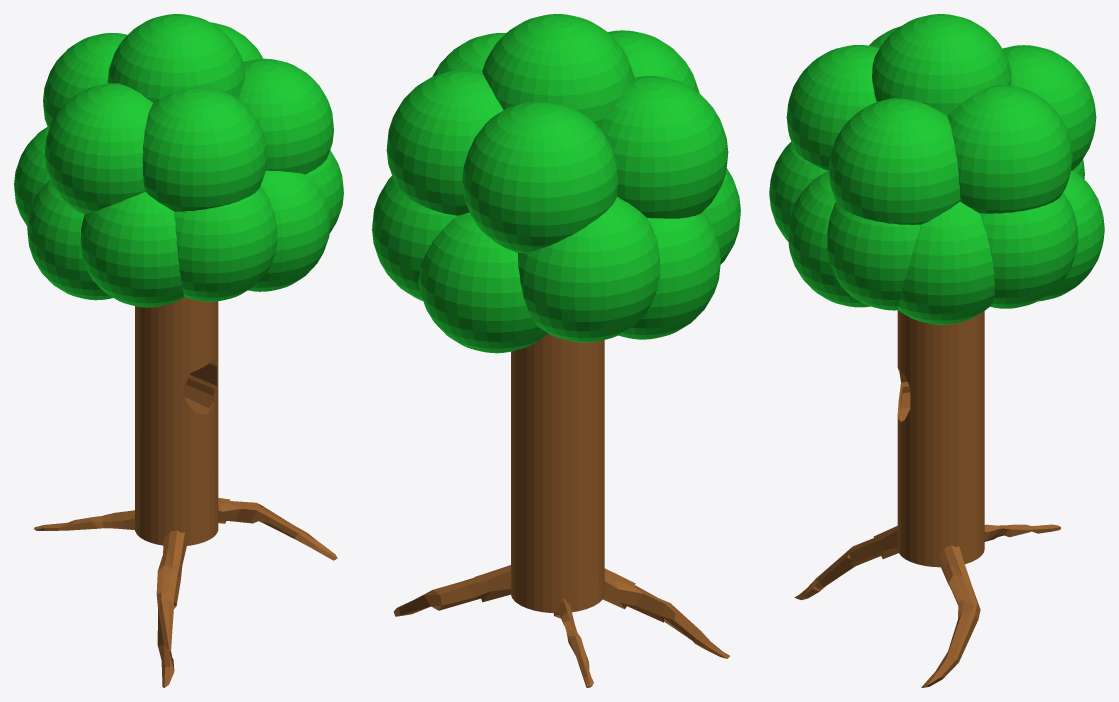
The model's file is tree.fbx.
3 renders of one model, left to right at view 1: azimuth 30°, elevation 25°; view 2: azimuth 150°, elevation 25°; view 3: azimuth 270°, elevation 25°, orthographic. The views are drawn at different scales.
Parts seen in each view (by area): view 1: Body, Bush4, Bush1, Bush9, Bush8, Bush13, Bush10, Bush12, RootBig3, RootBig2, Bush6, RootSmall (+1 smaller); view 2: Body, Bush4, Bush12, Bush8, Bush13, Bush1, Bush11, Bush5, RootBig3, Bush9, RootBig2, Bush10 (+1 smaller); view 3: Body, Bush1, Bush10, Bush11, Bush13, Bush5, Bush9, Bush6, Bush12, RootBig2, RootBig3, RootSmall.
Part boxes in pixels (x1,y1,x2,y2): Body: (135,297,218,545); Bush4: (14,127,184,307); Bush1: (174,170,330,301); Bush9: (142,87,267,211); Bush8: (45,83,153,214); Bush13: (107,14,245,102); Bush10: (238,58,333,174); Bush12: (43,33,127,128); RootBig3: (156,530,186,687); RootBig2: (218,498,337,560); Bush6: (305,150,343,232); RootSmall: (34,510,134,530); Body: (511,333,604,613); Bush4: (518,168,740,342); Bush12: (462,102,618,252); Bush8: (599,76,728,218); Bush13: (482,14,634,127); Bush1: (418,212,548,353); Bush11: (386,69,503,215); Bush5: (372,176,456,300); RootBig3: (602,568,729,658); Bush9: (608,30,699,93); RootBig2: (393,565,510,616); Bush10: (432,33,505,76); Body: (897,310,984,567); Bush1: (769,142,1104,324); Bush10: (828,98,960,224); Bush11: (947,84,1072,213); Bush13: (872,14,1011,116); Bush5: (980,192,1078,308); Bush9: (786,45,879,170); Bush6: (827,202,920,310); Bush12: (1002,45,1096,170); RootBig2: (921,545,980,687); RootBig3: (794,526,898,600); RootSmall: (984,524,1060,541).
Size of the model in its own units: 480 by 944 by 463.
